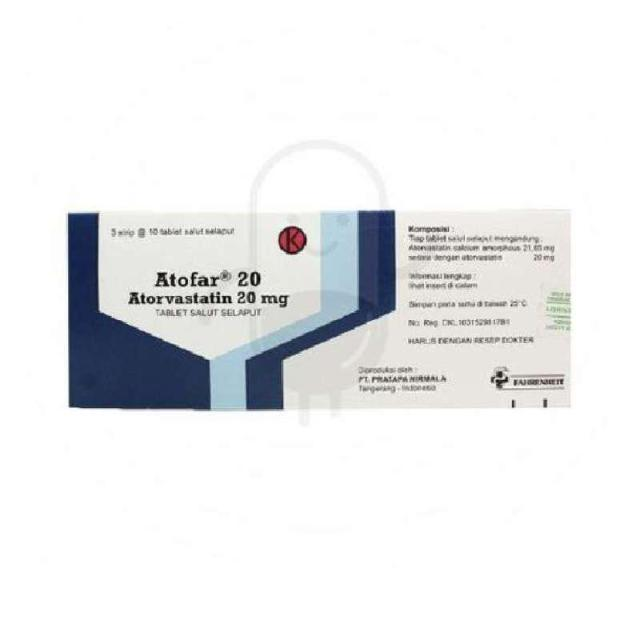drug-name: (150, 269, 262, 287)
